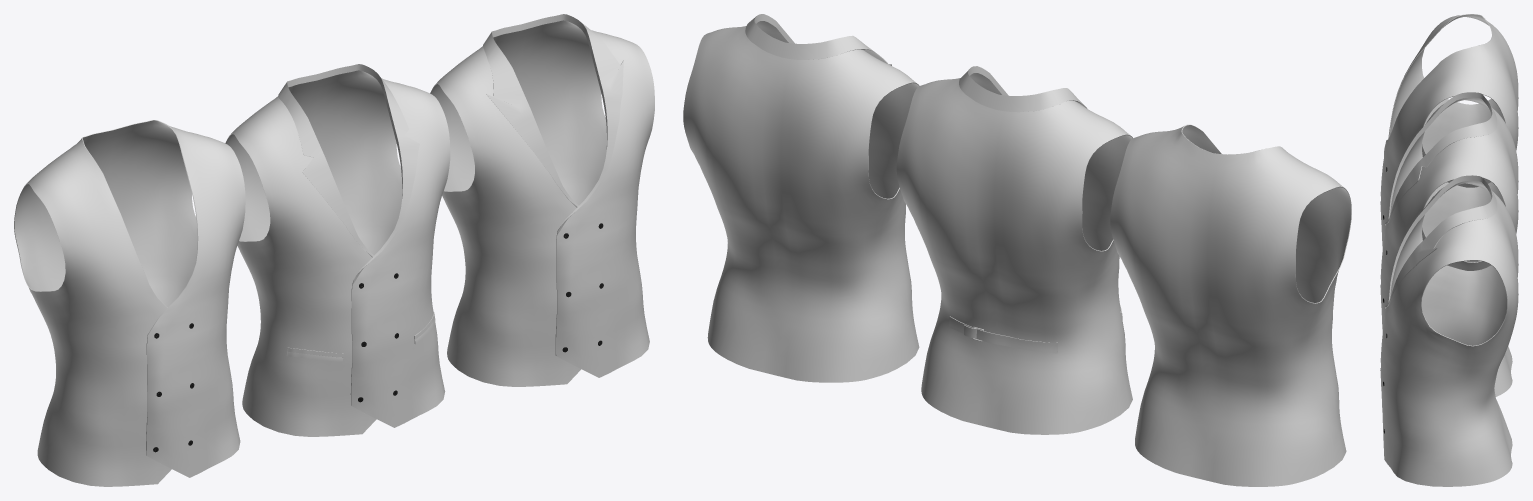
File: CarlosSA_Waistcoat_DB.fbx
The picture shows the model from 3 angles, left to right: view 1: azimuth 30°, elevation 25°; view 2: azimuth 150°, elevation 25°; view 3: azimuth 270°, elevation 25°; orthographic projection. The views are drawn at different scales.
Visible parts, largest first — view 1: SM_CarlosSA_Waistcoat_FrontButtons_DB6NoLapel, SM_CarlosSA_Waistcoat_FrontButtons_DB6EnglishCut, SM_CarlosSA_Waistcoat_FrontButtons_DB6Pointed, SM_CarlosSA_Waistcoat_Fixed_02; view 2: SM_CarlosSA_Waistcoat_FrontButtons_DB6NoLapel, SM_CarlosSA_Waistcoat_FrontButtons_DB6EnglishCut, SM_CarlosSA_Waistcoat_FrontButtons_DB6Pointed, SM_CarlosSA_Waistcoat_Fixed_01; view 3: SM_CarlosSA_Waistcoat_FrontButtons_DB6EnglishCut, SM_CarlosSA_Waistcoat_FrontButtons_DB6Pointed, SM_CarlosSA_Waistcoat_FrontButtons_DB6NoLapel.
Part boxes in pixels (x1=…): SM_CarlosSA_Waistcoat_FrontButtons_DB6NoLapel: x1=14, y1=120, x2=245, y2=486; SM_CarlosSA_Waistcoat_FrontButtons_DB6EnglishCut: x1=430, y1=14, x2=654, y2=386; SM_CarlosSA_Waistcoat_FrontButtons_DB6Pointed: x1=225, y1=64, x2=450, y2=436; SM_CarlosSA_Waistcoat_Fixed_02: x1=286, y1=312, x2=435, y2=361; SM_CarlosSA_Waistcoat_FrontButtons_DB6NoLapel: x1=1110, y1=124, x2=1351, y2=486; SM_CarlosSA_Waistcoat_FrontButtons_DB6EnglishCut: x1=683, y1=14, x2=919, y2=382; SM_CarlosSA_Waistcoat_FrontButtons_DB6Pointed: x1=896, y1=66, x2=1132, y2=434; SM_CarlosSA_Waistcoat_Fixed_01: x1=949, y1=316, x2=1057, y2=353; SM_CarlosSA_Waistcoat_FrontButtons_DB6EnglishCut: x1=1380, y1=175, x2=1518, y2=486; SM_CarlosSA_Waistcoat_FrontButtons_DB6Pointed: x1=1380, y1=92, x2=1518, y2=396; SM_CarlosSA_Waistcoat_FrontButtons_DB6NoLapel: x1=1380, y1=14, x2=1518, y2=248.
Size of the model in its own units: 118 by 59.2 by 28.03.
